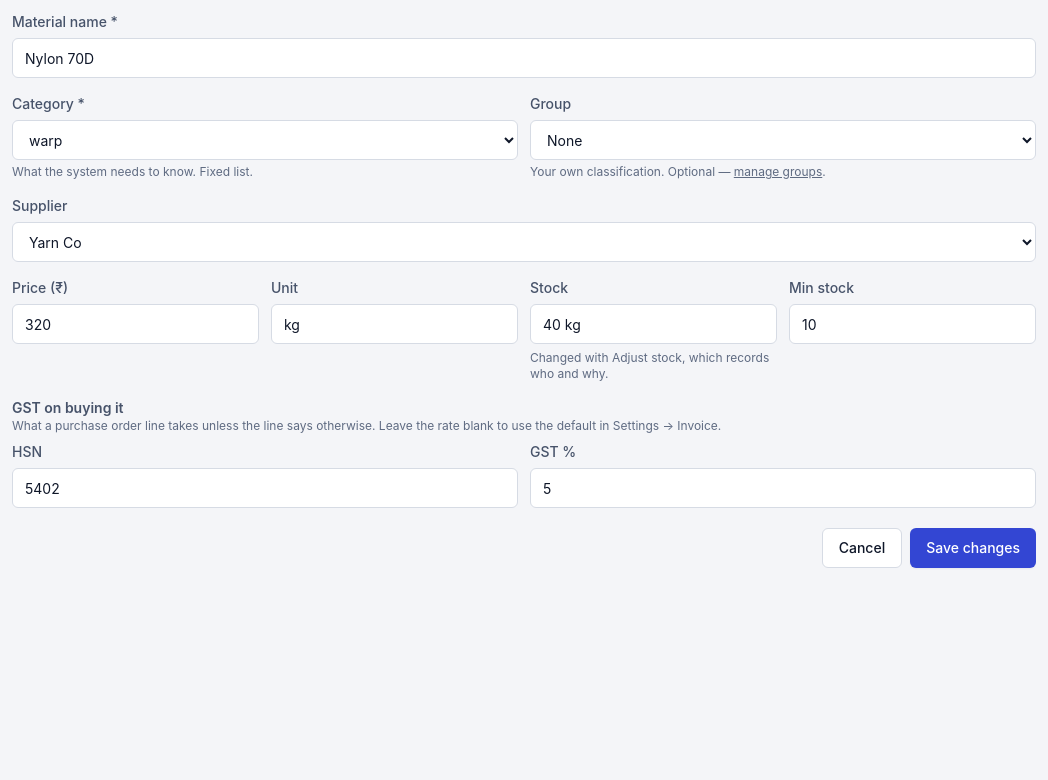
HSN and GST % on the material form › refuses GST % 120
Replace the text in the number field labelled "GST %" with "120" at (783, 488), box [530,468,1036,508]
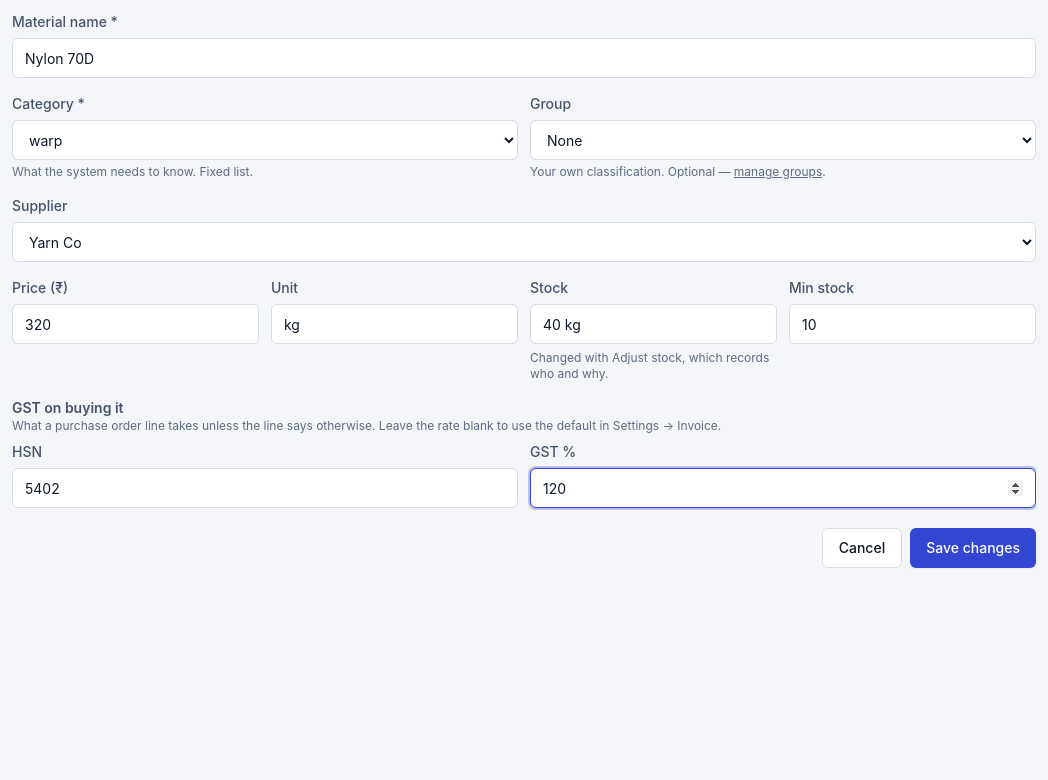
Click the button "Save changes" at (973, 548), box [910,528,1036,568]
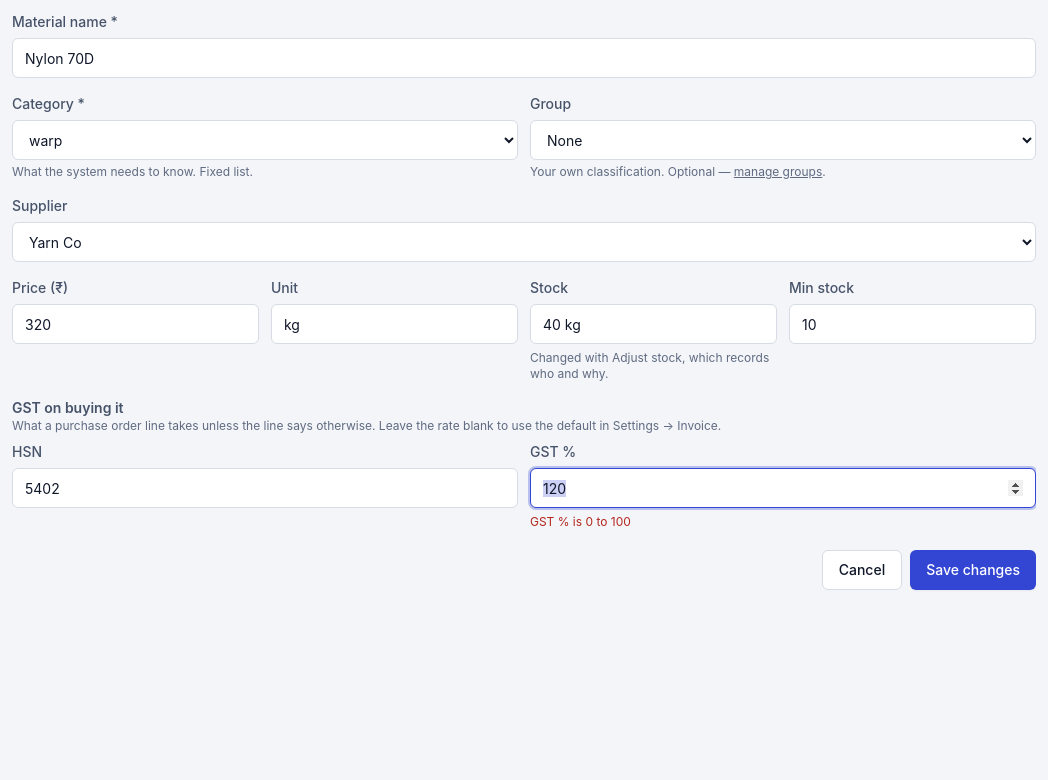
Expected: the text "GST % is 0 to 100" is shown, [530,514,631,529]
